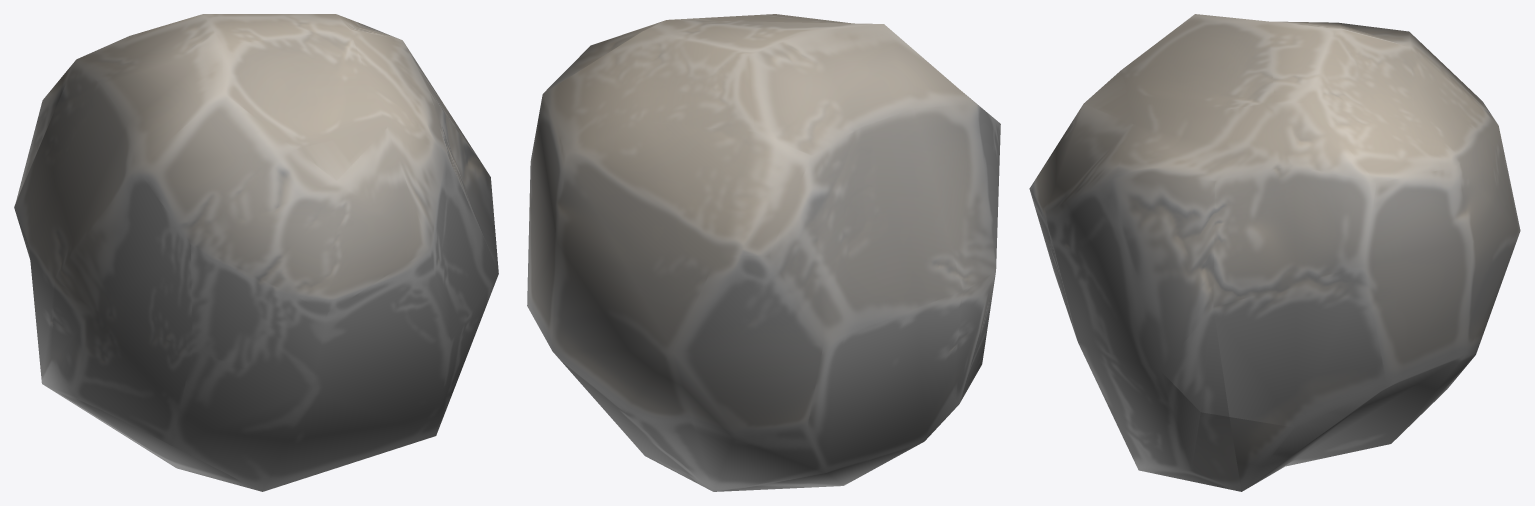
The model's file is Stone.fbx.
3 views of the same model, side by side, from view 1: azimuth 30°, elevation 25°; view 2: azimuth 150°, elevation 25°; view 3: azimuth 270°, elevation 25° (orthographic). The views are drawn at different scales.
Visible parts, largest first — view 1: StylizedStones_Batch_01_04; view 2: StylizedStones_Batch_01_04; view 3: StylizedStones_Batch_01_04.
Boxes of the visible parts, bbox=[...] form: StylizedStones_Batch_01_04: bbox=[14, 14, 498, 491]; StylizedStones_Batch_01_04: bbox=[527, 14, 1000, 491]; StylizedStones_Batch_01_04: bbox=[1029, 14, 1520, 491].
Size of the model in its own units: 24.41 by 24.42 by 26.18.
Materials: 1 (1 with a texture image).
